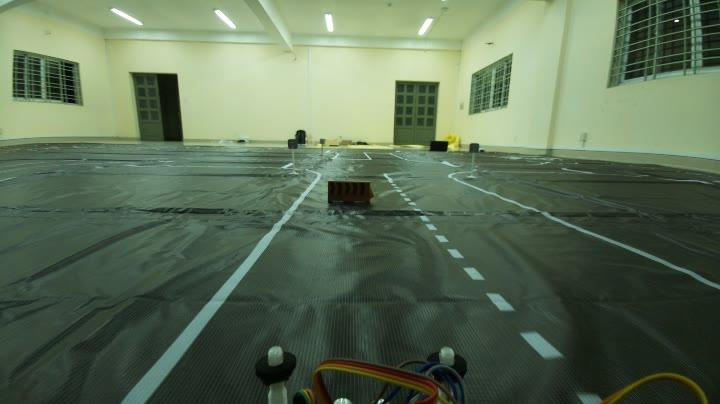roadblock: (325, 176, 380, 214)
